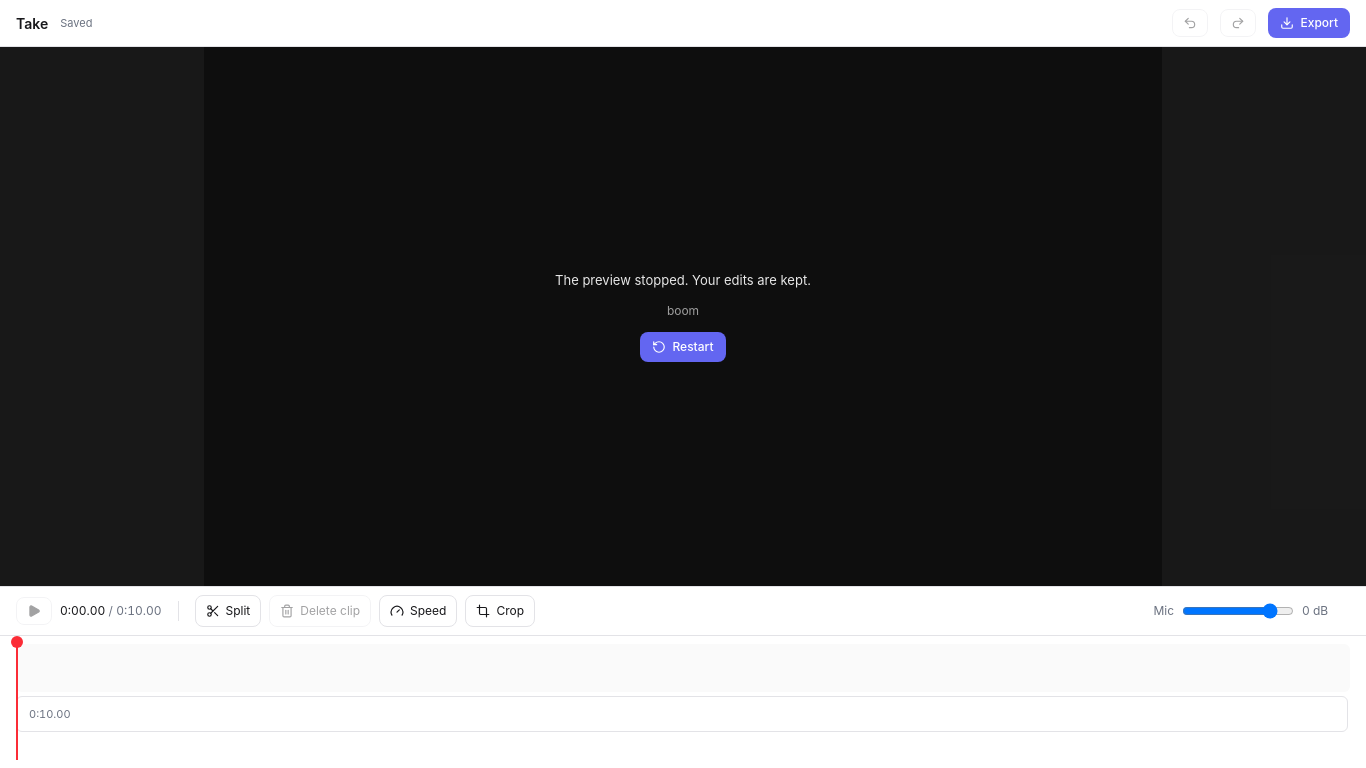
Test: RecordEditor › Restart resyncs the document and timeline
What coordinates should you click on to do the following:
click the button "Restart"
I would click on:
 (683, 347)
Its box is 640,332 -> 726,362.
Wait 5 ms
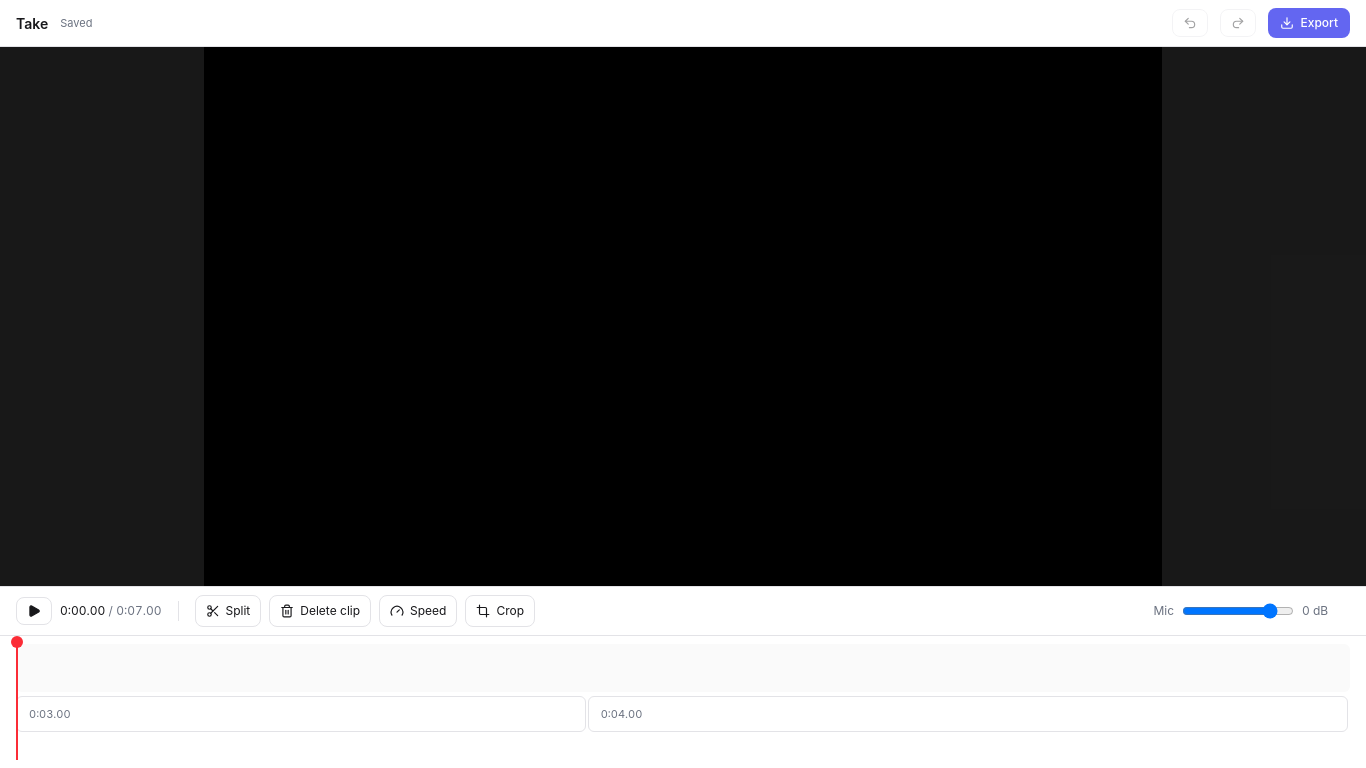
Now the number of elements with test id "ed-clip" is 2, box 16,696 -> 586,732; 588,696 -> 1348,732
Now the element with test id "ed-fatal" is gone
